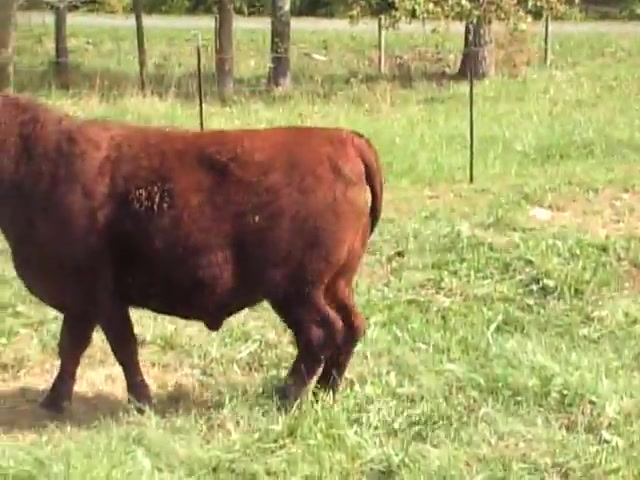cow: (2, 92, 386, 422)
